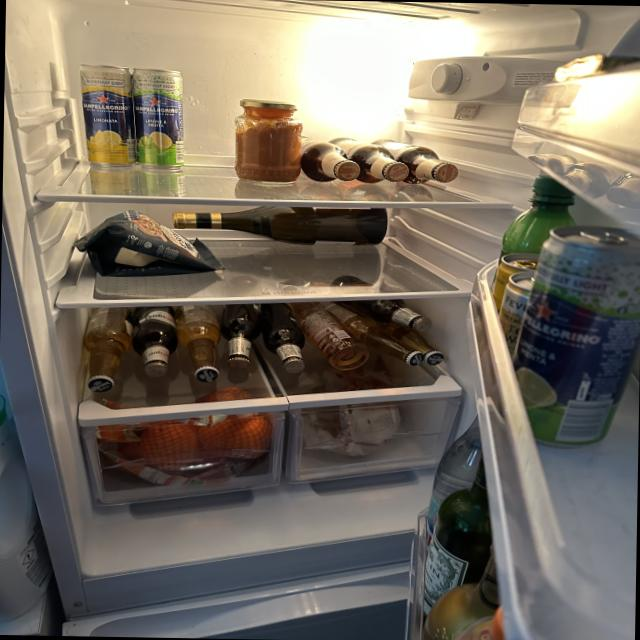orange: (221, 412, 265, 462)
